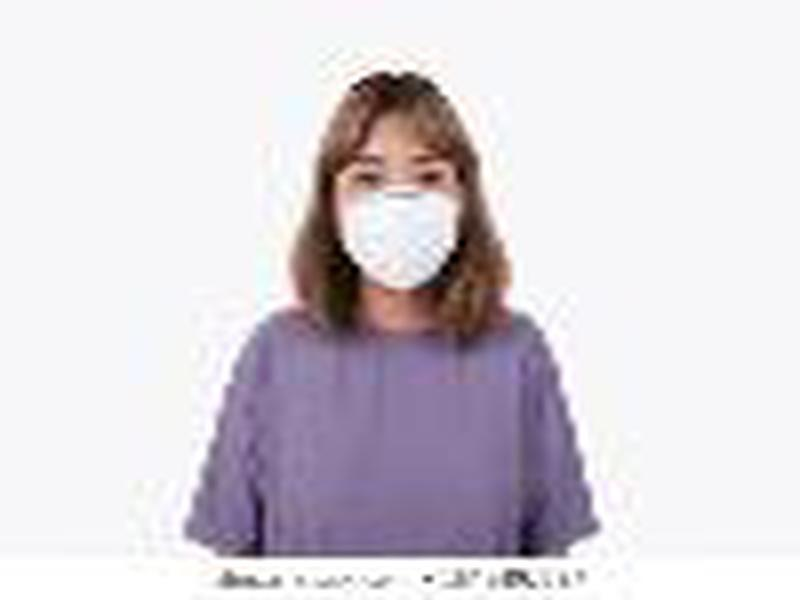with_mask: (332, 111, 465, 297)
